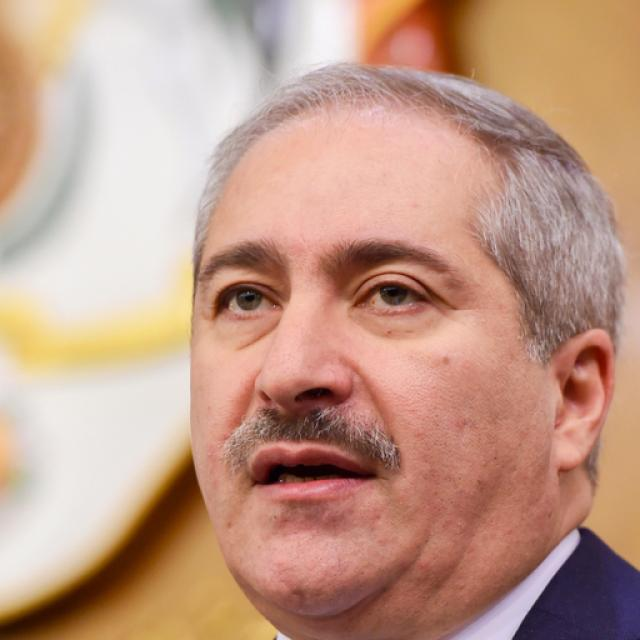neutral: (190, 96, 556, 610)
